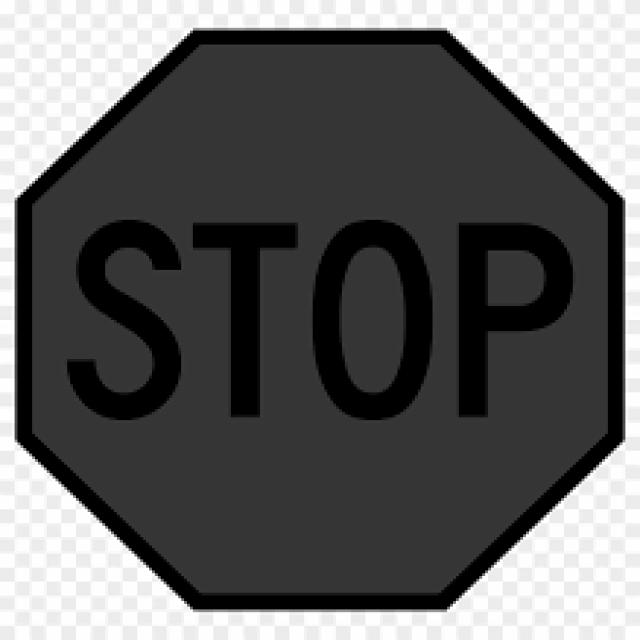stop sign: (20, 34, 621, 613)
